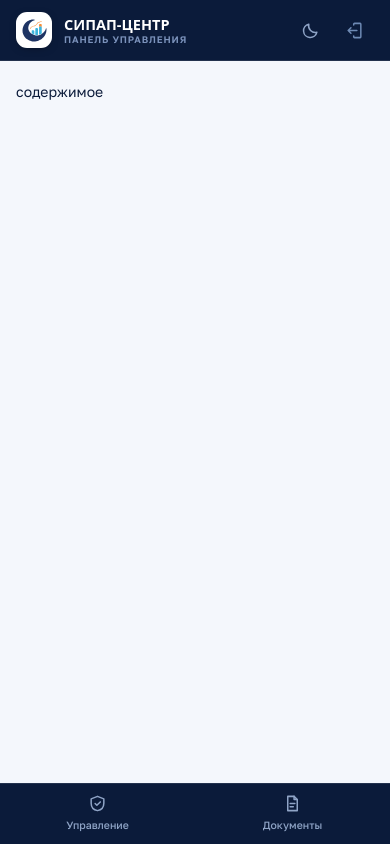
it: оболочка кабинета на узком экране › оставляет администратору выход в верхней панели
The width and height of the screenshot is (390, 844).
Click the button named "Выйти из аккаунта": coordinates (354, 30) [334, 10, 374, 50]
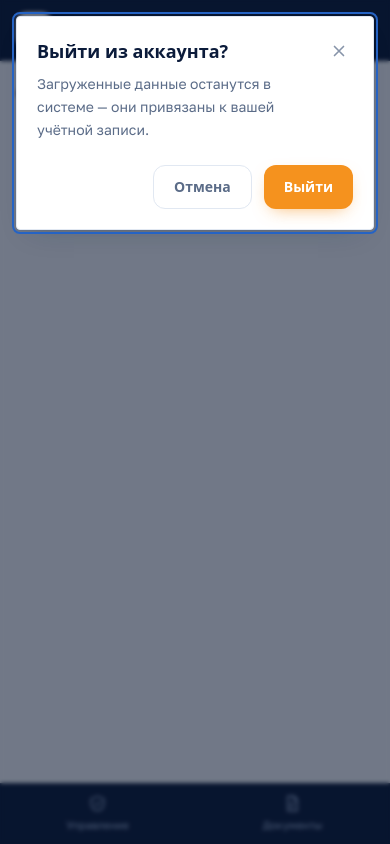
Result: the heading "Выйти из аккаунта?" is shown at [37, 39, 228, 63]
